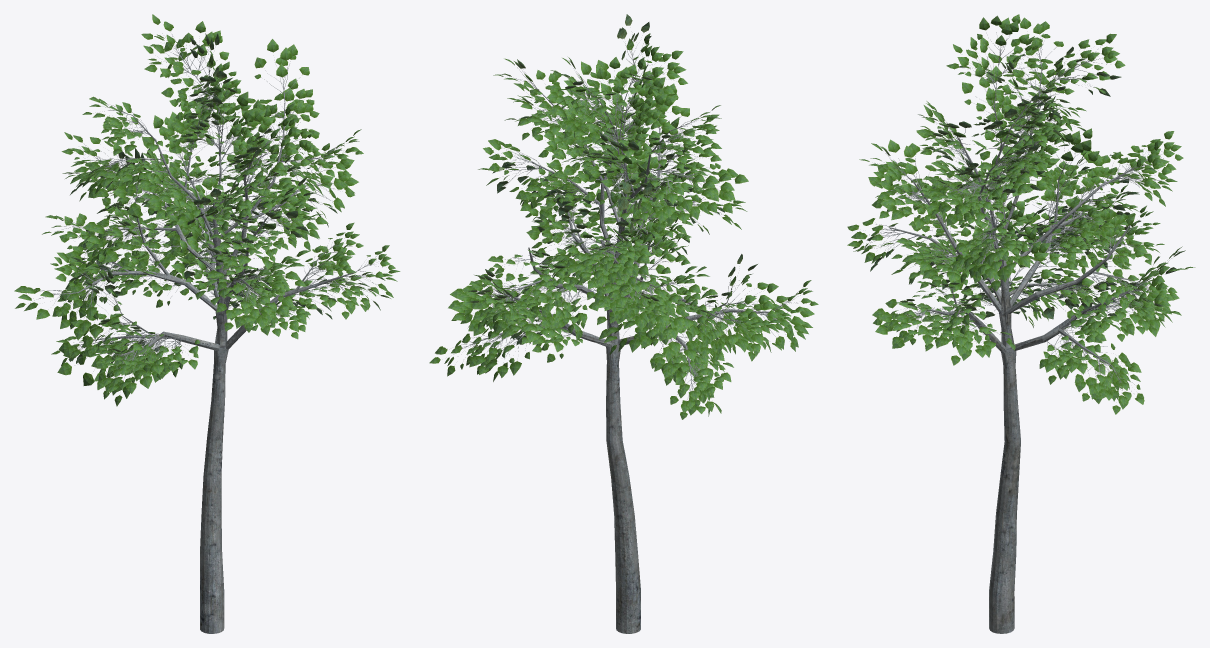
File: poplar.obj
The picture shows the model from 3 angles, left to right: view 1: azimuth 30°, elevation 25°; view 2: azimuth 150°, elevation 25°; view 3: azimuth 270°, elevation 25°; orthographic projection. The views are drawn at different scales.
Parts seen in each view (by area): view 1: twigs_tree, tree_tree.001; view 2: twigs_tree, tree_tree.001; view 3: twigs_tree, tree_tree.001.
Boxes of the visible parts, <box> form: twigs_tree: <box>14,14,400,406</box>; tree_tree.001: <box>78,63,353,633</box>; twigs_tree: <box>429,14,818,419</box>; tree_tree.001: <box>481,76,768,633</box>; twigs_tree: <box>847,14,1195,414</box>; tree_tree.001: <box>889,66,1137,633</box>.
Size of the model in its own units: 404 by 730 by 375.
2 materials, 2 textured.
